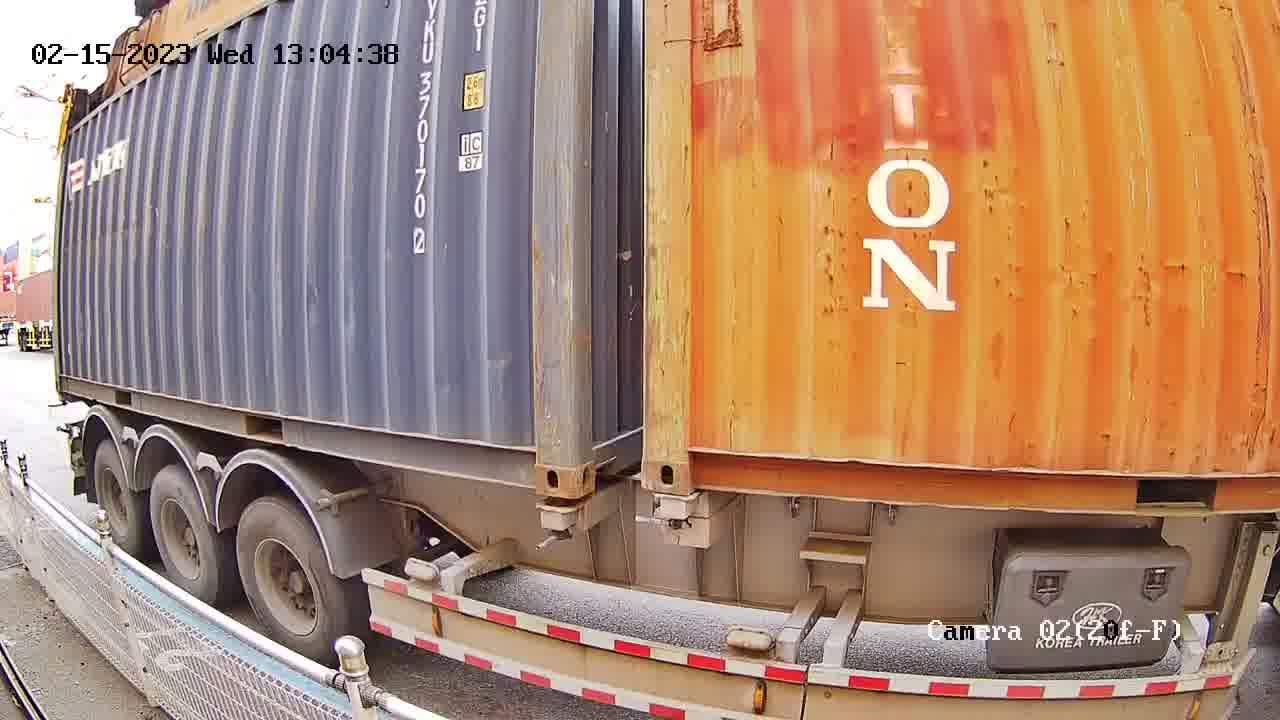Cone: (642, 493, 703, 527), (538, 493, 578, 542)
Hole_L: (644, 419, 744, 492), (577, 392, 638, 498)
Hole_R: (497, 415, 578, 497)
Tire: (236, 505, 347, 657), (147, 467, 220, 598), (94, 445, 140, 550)
